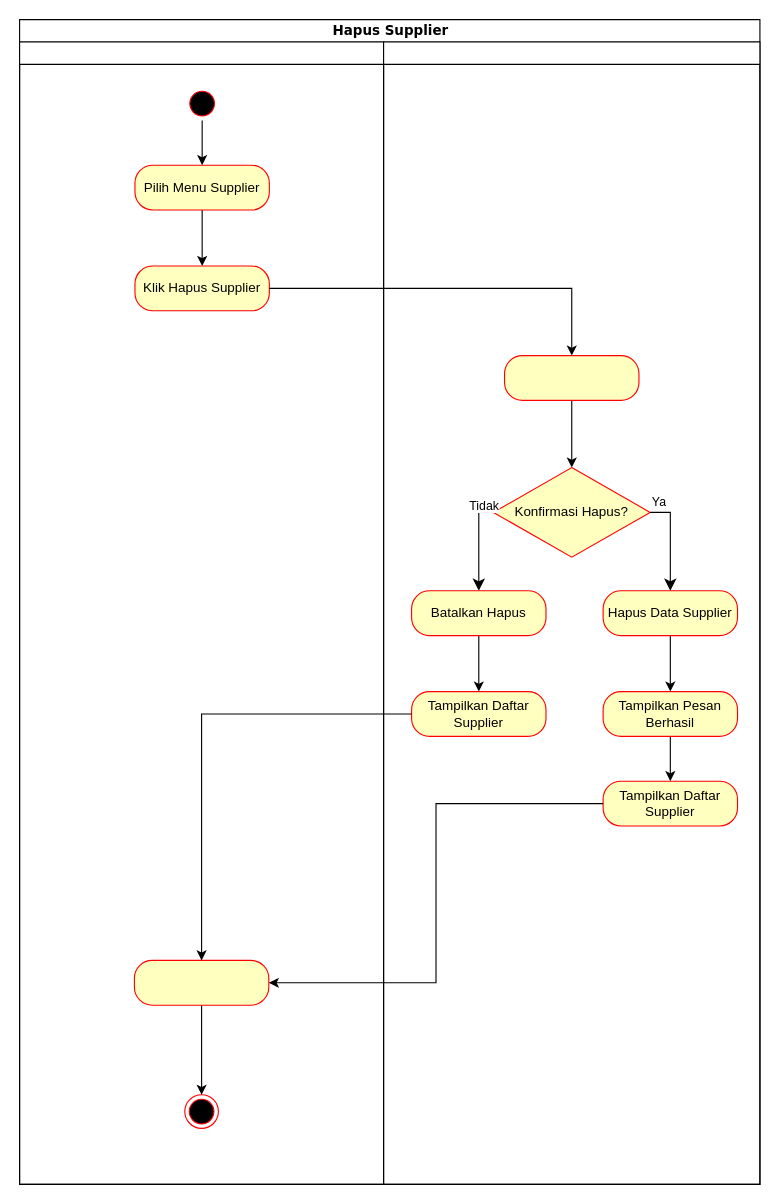
Image size: 780x1204. Some labels were removed from this diagram. The box of each missing label's shape, as (x1, y1, x2, y2) in pixels:
Admin: (18, 41, 384, 1184)
Melihat Daftar Supplier: (133, 959, 269, 1005)
Menampilkan Konfirmasi: (503, 354, 639, 400)
System: (382, 41, 760, 1184)
